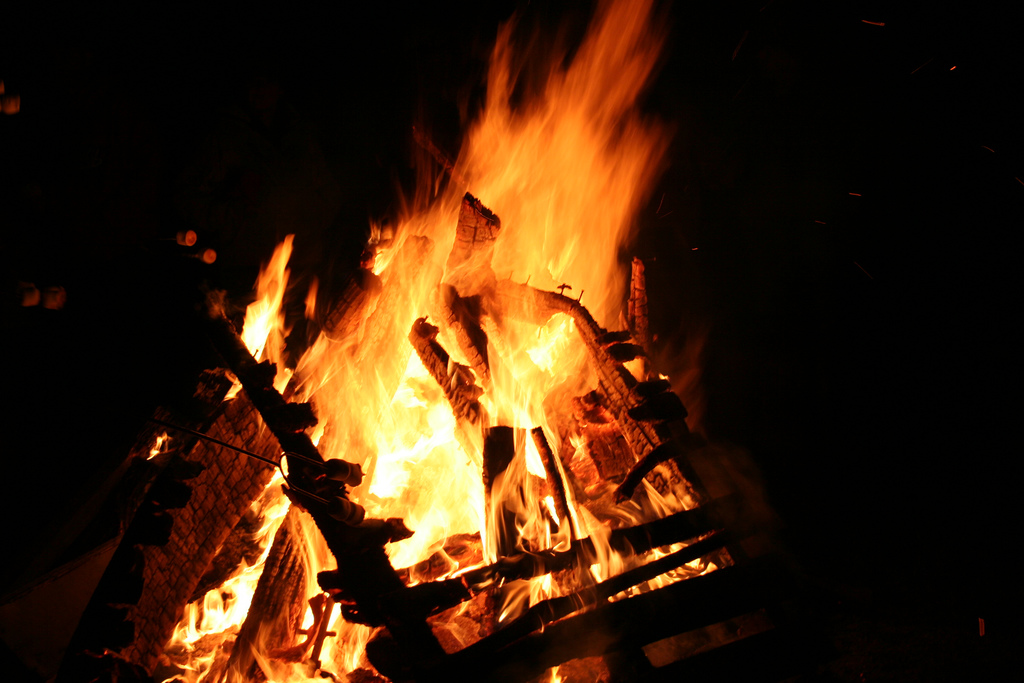fire: (110, 9, 726, 682)
